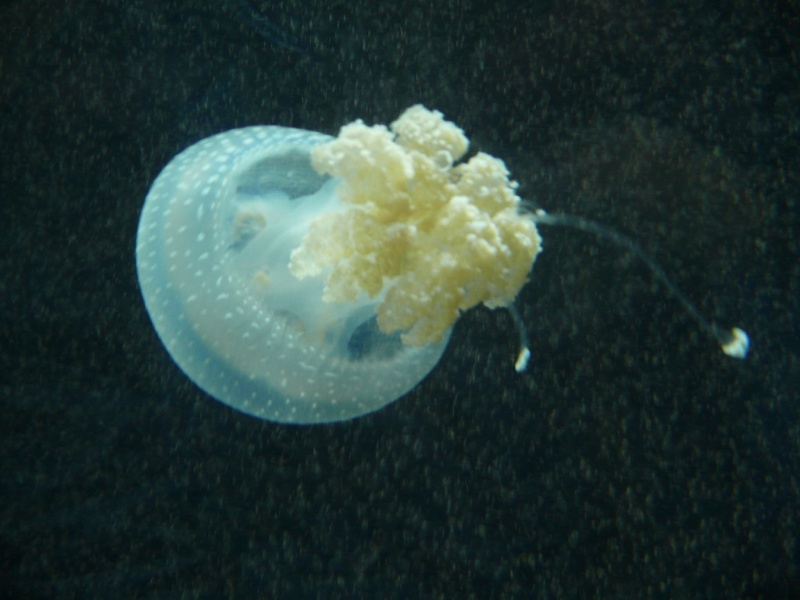Jellyfish: (136, 102, 751, 423)
